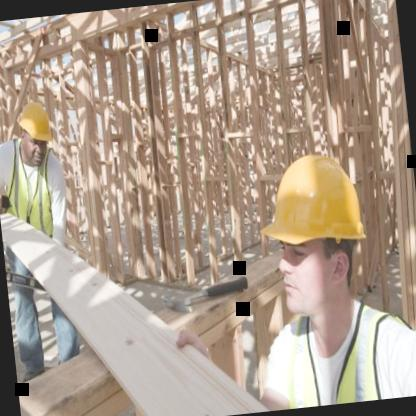helmet: (244, 126, 380, 342), (10, 98, 61, 164)
